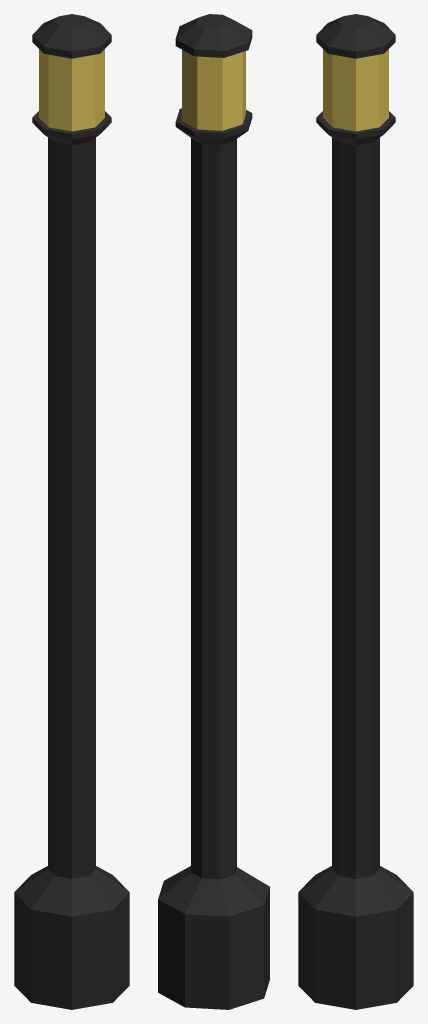
File: Lamp.fbx
The picture shows the model from 3 angles, left to right: view 1: azimuth 90°, elevation 25°; view 2: azimuth 150°, elevation 25°; view 3: azimuth 270°, elevation 25°; orthographic projection.
Parts seen in each view (by area): view 1: Model; view 2: Model; view 3: Model.
Boxes of the visible parts, x1,y1,x2,y2 form: Model: (14,14,129,1009); Model: (158,14,269,1009); Model: (298,14,413,1009).
Size of the model in its own units: 0.7701 by 7.08 by 0.7701.
